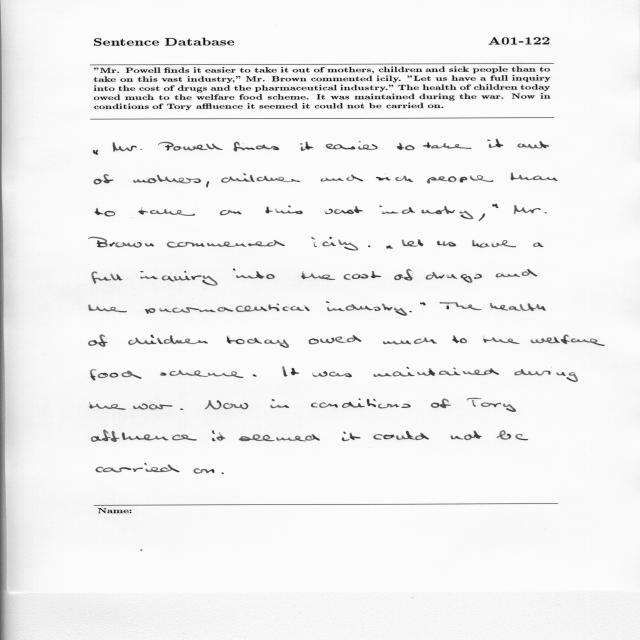word: (145, 303, 310, 314), (379, 206, 473, 220), (91, 430, 197, 442), (374, 367, 500, 377), (140, 271, 218, 286), (326, 302, 407, 316), (311, 399, 411, 409), (167, 240, 285, 248), (514, 369, 578, 382), (531, 335, 605, 346), (128, 335, 208, 345), (221, 173, 300, 183), (96, 463, 180, 472), (227, 336, 289, 348), (88, 237, 154, 248), (467, 398, 516, 412), (160, 370, 244, 378), (426, 272, 482, 283), (311, 237, 358, 250), (158, 142, 223, 151), (90, 369, 142, 380), (239, 434, 320, 441), (133, 175, 201, 183), (427, 176, 493, 184), (373, 431, 429, 440), (309, 335, 362, 344), (326, 141, 378, 150), (234, 142, 279, 152), (490, 303, 546, 311), (205, 400, 248, 410), (233, 269, 275, 279), (92, 271, 123, 284), (138, 209, 195, 216), (383, 338, 437, 345), (511, 173, 558, 181), (423, 142, 472, 149), (440, 302, 482, 310), (344, 271, 381, 280), (496, 269, 537, 277), (497, 431, 529, 441), (451, 430, 482, 440), (472, 240, 516, 247), (325, 206, 363, 214), (89, 305, 127, 313), (514, 205, 547, 214), (266, 206, 303, 214), (321, 175, 363, 182), (113, 142, 142, 152), (301, 272, 335, 280), (484, 337, 520, 344), (90, 403, 126, 410), (312, 372, 352, 378), (133, 404, 172, 410), (89, 335, 108, 347), (517, 141, 549, 148), (376, 176, 413, 182), (394, 269, 413, 280), (94, 174, 114, 184), (431, 399, 451, 409), (282, 366, 299, 377), (402, 239, 424, 247), (270, 399, 289, 408), (342, 432, 361, 441), (95, 208, 115, 216), (397, 143, 415, 151), (487, 139, 503, 148), (212, 431, 225, 442), (300, 141, 313, 151), (452, 336, 467, 344), (194, 468, 214, 474), (437, 241, 456, 247), (220, 210, 241, 215), (479, 214, 485, 222), (533, 243, 544, 247), (386, 245, 393, 249), (493, 204, 499, 208), (94, 150, 98, 155), (206, 181, 209, 187), (420, 302, 426, 305), (253, 374, 257, 377), (180, 408, 183, 410), (368, 246, 370, 248), (222, 472, 224, 474), (409, 311, 412, 312)
